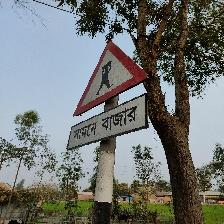Market-in-front: (68, 38, 150, 150)
